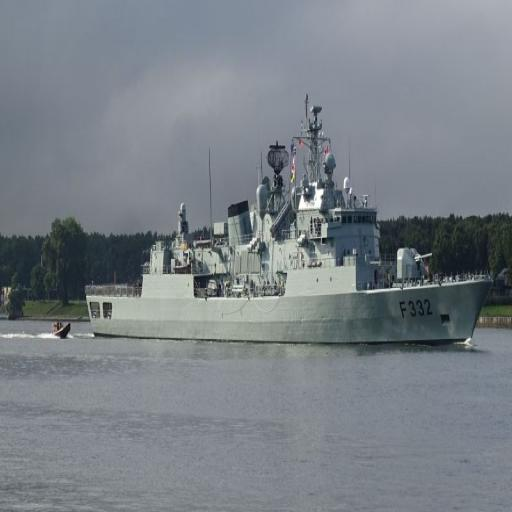Fragata: (83, 99, 494, 350)
